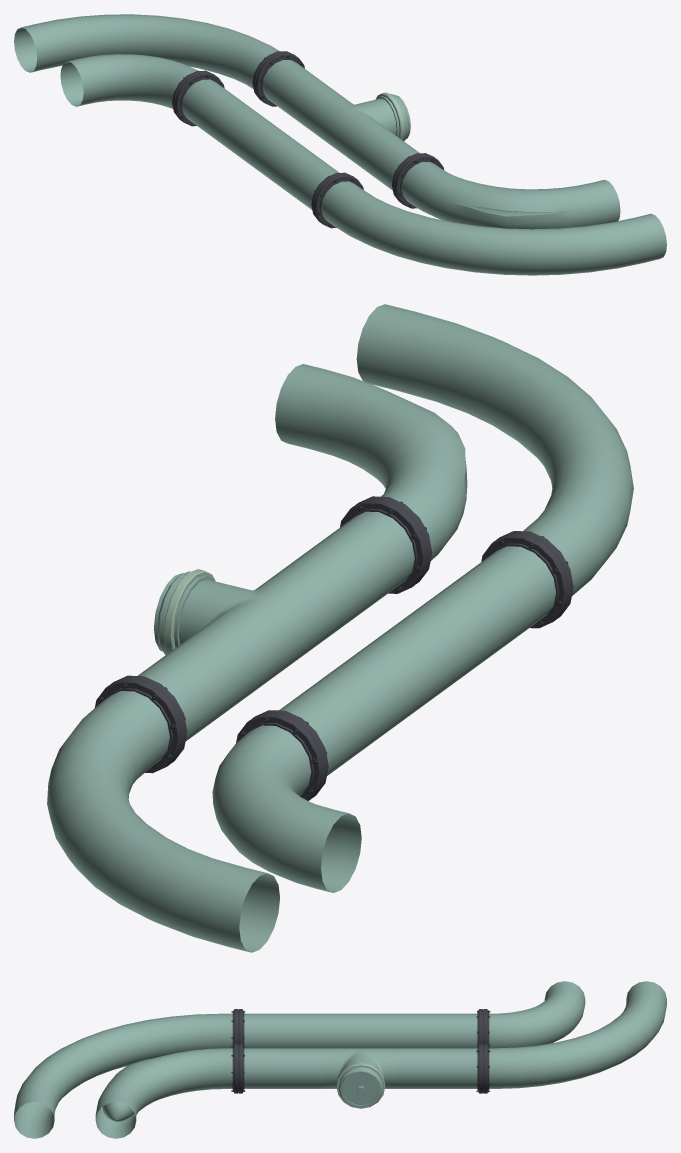
Rendered from PipeComplexLarge_A2_20.fbx.
3 renders of one model, top to bottom at view 1: azimuth 30°, elevation 25°; view 2: azimuth 150°, elevation 25°; view 3: azimuth 270°, elevation 25°, orthographic. The views are drawn at different scales.
Parts seen in each view (by area): view 1: PipeComplexLarge_A2_20.001; view 2: PipeComplexLarge_A2_20.001; view 3: PipeComplexLarge_A2_20.001.
Boxes of the visible parts, x1,y1,x2,y2 form: PipeComplexLarge_A2_20.001: (14,14,666,275); PipeComplexLarge_A2_20.001: (47,304,633,952); PipeComplexLarge_A2_20.001: (14,981,666,1138).
Bounding box in the file's own units: 1.4 × 0.245 × 3.2.
